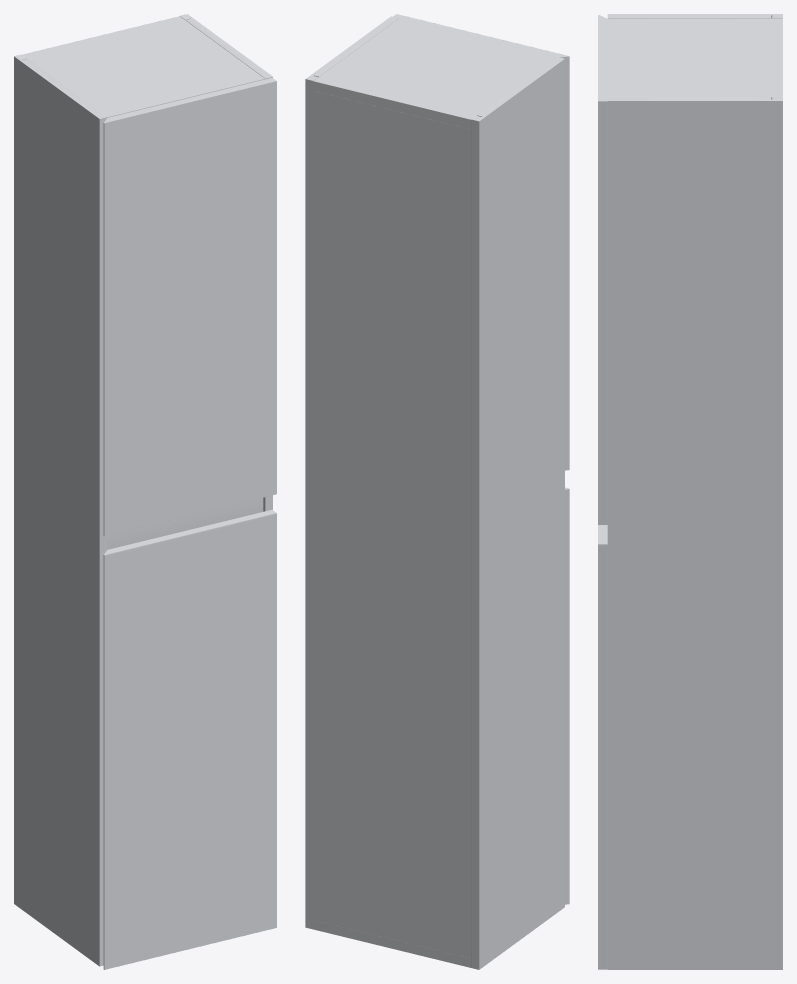
File: abo-B07RR3RFHT.glb
3 renders of one model, left to right at view 1: azimuth 30°, elevation 25°; view 2: azimuth 150°, elevation 25°; view 3: azimuth 270°, elevation 25°, orthographic. The views are drawn at different scales.
Size of the model in its own units: 0.3 by 1.4 by 0.27.
Materials: 1 (1 with a texture image).
